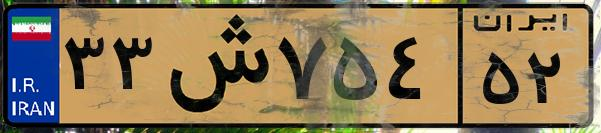2: (525, 38, 570, 115)
3: (57, 26, 110, 100), (110, 28, 158, 98)
4: (385, 28, 445, 110)
5: (330, 28, 385, 110), (475, 38, 525, 113)
7: (270, 28, 330, 110)
ش: (158, 12, 270, 120)
